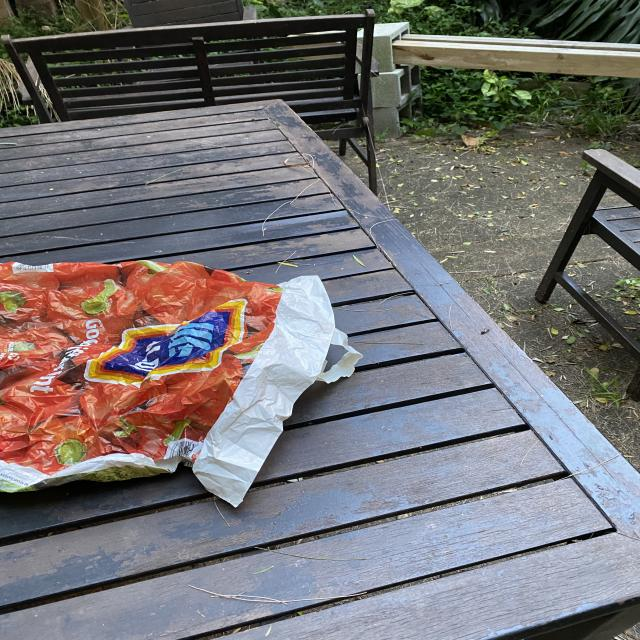bag: (0, 256, 367, 511)
